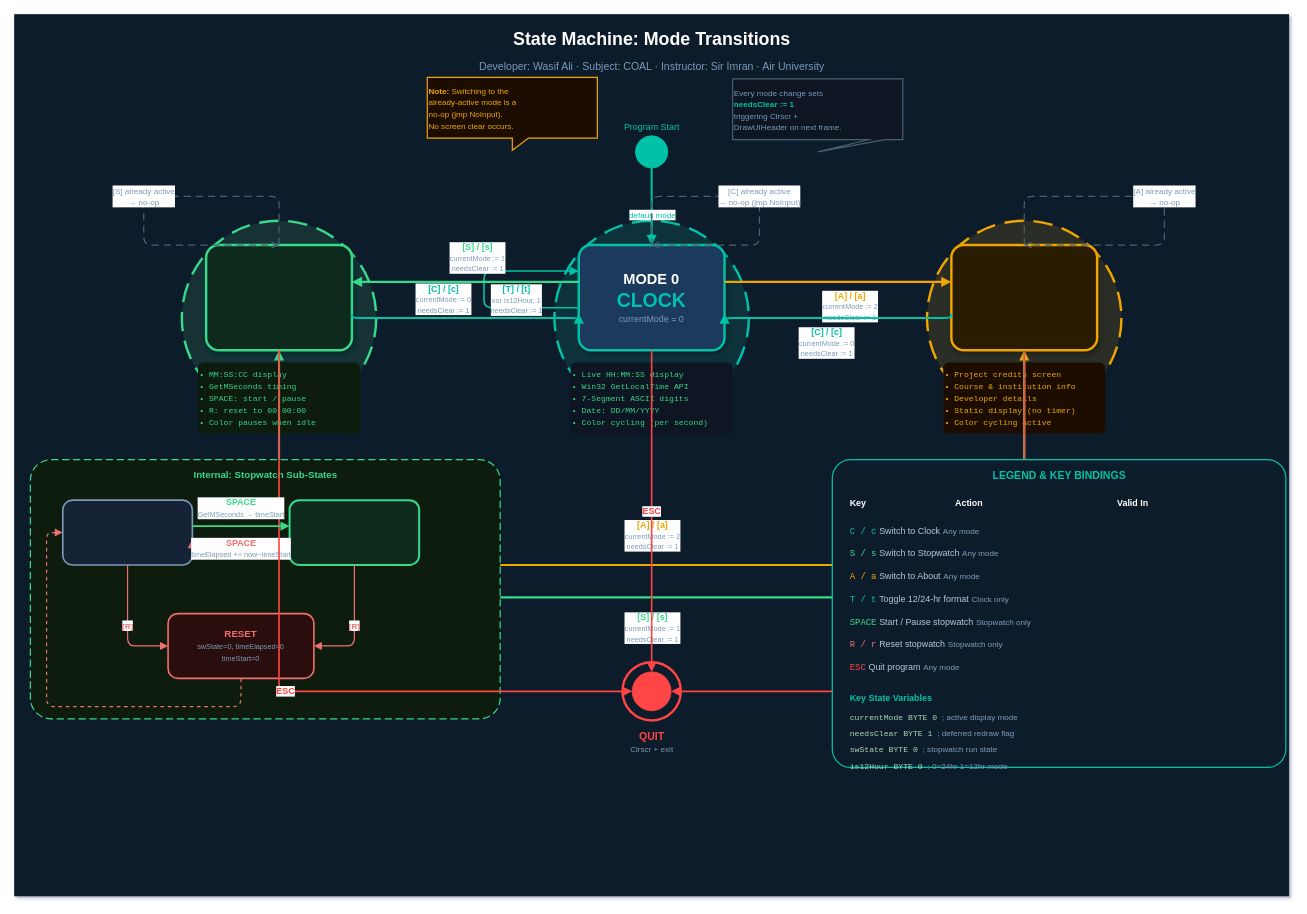
This 1307x914 diagram has some shape labels left out. The shapes that lost their labels are listed below. From the top down, each one's centre as x and y in pixels, then its label:
At point (279, 298): "MODE 1 STOPWATCH currentMode = 1".
At point (1024, 298): "MODE 2 ABOUT currentMode = 2".
At point (127, 532): "IDLE swState = 0".
At point (354, 532): "RUNNING swState = 1".
